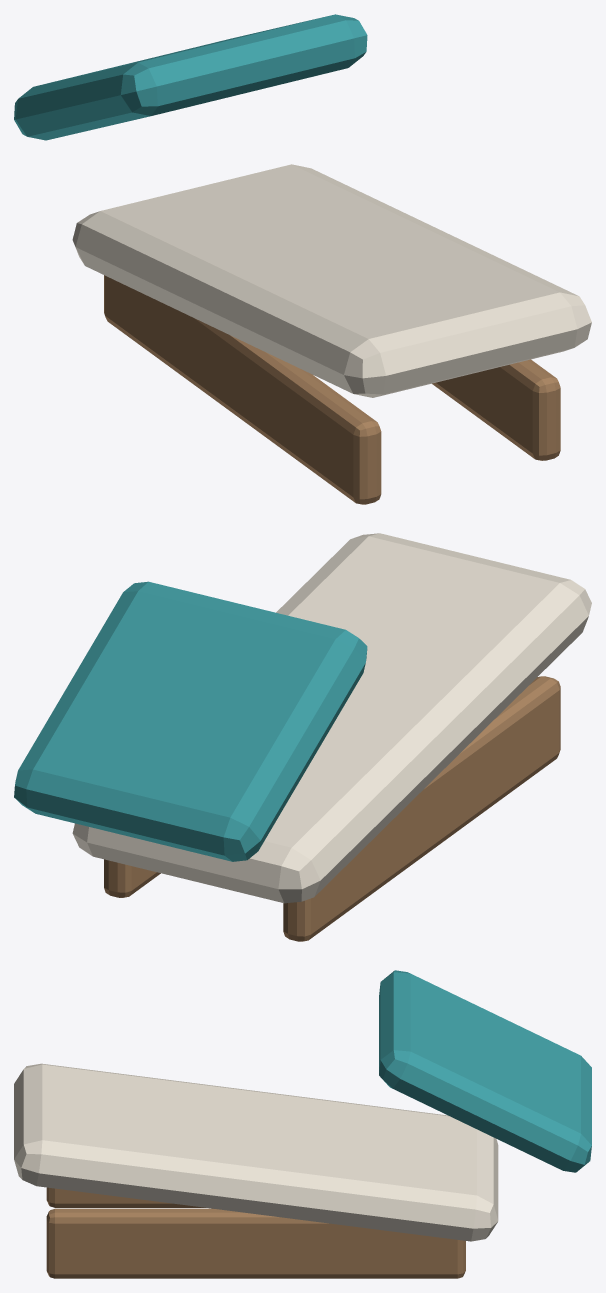
3 renders of one model, top to bottom at view 1: azimuth 30°, elevation 25°; view 2: azimuth 150°, elevation 25°; view 3: azimuth 270°, elevation 25°, orthographic. The views are drawn at different scales.
Parts seen in each view (by area): view 1: LOD1_SUN_LOUNGER_Bed, LOD1_SUN_LOUNGER_Leg, LOD1_SUN_LOUNGER_Back, LOD1_SUN_LOUNGER_Leg.001; view 2: LOD1_SUN_LOUNGER_Back, LOD1_SUN_LOUNGER_Bed, LOD1_SUN_LOUNGER_Leg, LOD1_SUN_LOUNGER_Leg.001; view 3: LOD1_SUN_LOUNGER_Bed, LOD1_SUN_LOUNGER_Back, LOD1_SUN_LOUNGER_Leg.001, LOD1_SUN_LOUNGER_Leg.
Boxes of the visible parts, box(x1,y1,x2,y2) form: LOD1_SUN_LOUNGER_Bed: box(72, 164, 591, 397); LOD1_SUN_LOUNGER_Leg: box(104, 275, 381, 504); LOD1_SUN_LOUNGER_Back: box(14, 14, 367, 140); LOD1_SUN_LOUNGER_Leg.001: box(432, 359, 560, 460); LOD1_SUN_LOUNGER_Back: box(14, 581, 367, 861); LOD1_SUN_LOUNGER_Bed: box(72, 533, 591, 903); LOD1_SUN_LOUNGER_Leg: box(283, 676, 560, 941); LOD1_SUN_LOUNGER_Leg.001: box(104, 859, 160, 897); LOD1_SUN_LOUNGER_Bed: box(14, 1063, 498, 1241); LOD1_SUN_LOUNGER_Back: box(379, 970, 591, 1172); LOD1_SUN_LOUNGER_Leg.001: box(46, 1208, 465, 1278); LOD1_SUN_LOUNGER_Leg: box(46, 1187, 205, 1207).
Size of what is drawn, in the model's own units: 0.82 by 0.9085 by 2.07.
